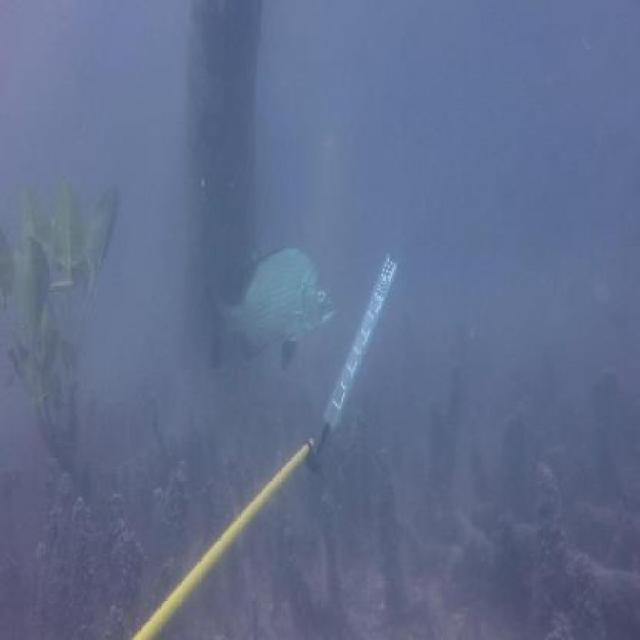acanthopagrus_palmaris: (206, 243, 343, 369)
